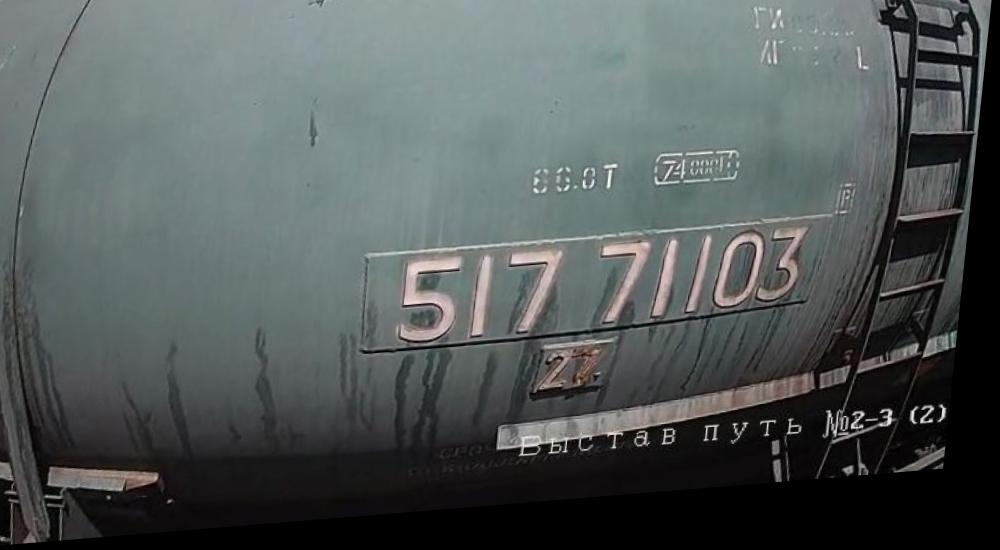Wagon-number: (389, 233, 814, 355)
